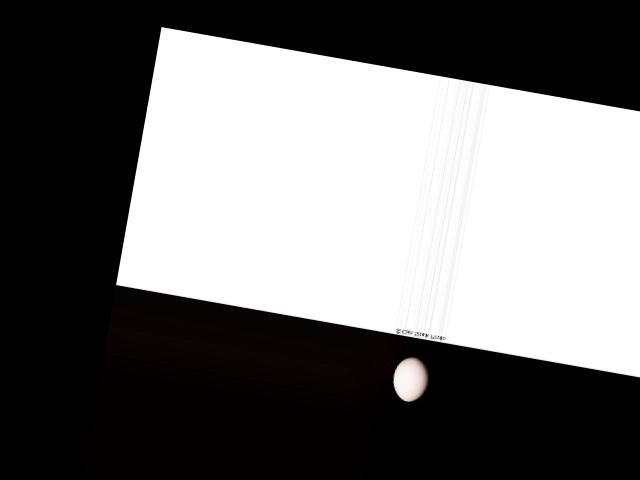egg: (390, 353, 432, 404)
